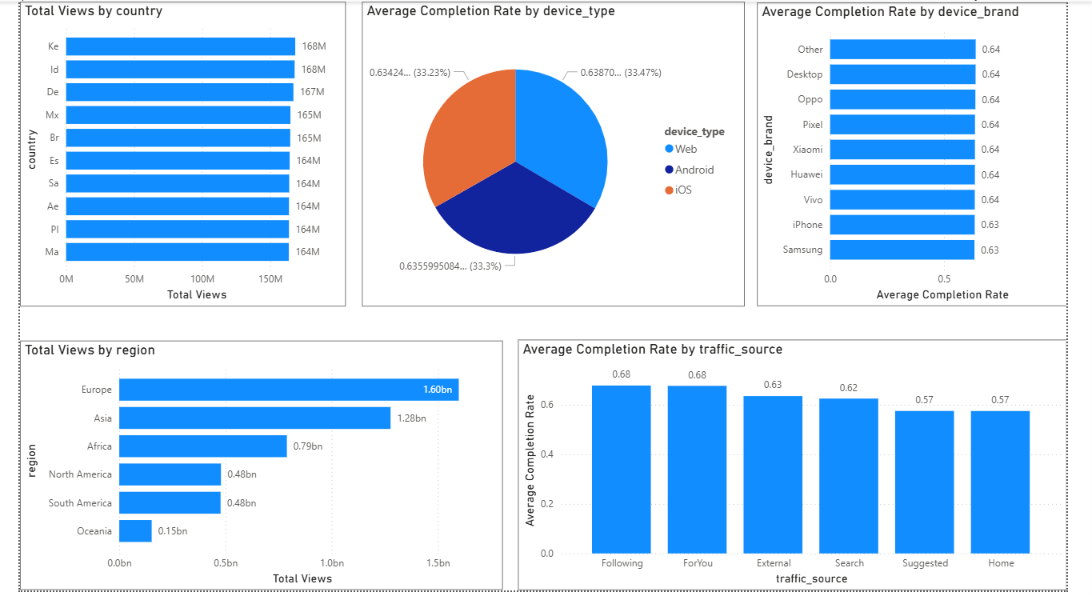

What the dashboard file says about the page in this screenshot:
{"tool":"powerbi","page":{"name":"Market & Device Analysis","canvas":[1280,720],"ordinal":3},"visuals":[{"type":"clusteredBarChart","fields":{"Category":["youtube_shorts_tiktok_trends_2025.country"],"Y":["youtube_shorts_tiktok_trends_2025.Total Views"]},"box":[0,0,398.7,372.9],"z":0},{"type":"clusteredBarChart","fields":{"Category":["youtube_shorts_tiktok_trends_2025.region"],"Y":["youtube_shorts_tiktok_trends_2025.Total Views"]},"box":[0,414.8,590.8,305.1],"z":1000},{"type":"pieChart","fields":{"Category":["youtube_shorts_tiktok_trends_2025.device_type"],"Y":["youtube_shorts_tiktok_trends_2025.Average Completion Rate"]},"box":[418.1,0,468.1,372.9],"z":2000},{"type":"clusteredBarChart","fields":{"Category":["youtube_shorts_tiktok_trends_2025.device_brand"],"Y":["youtube_shorts_tiktok_trends_2025.Average Completion Rate"]},"box":[900.7,1.6,379.3,371.2],"z":3000},{"type":"clusteredColumnChart","fields":{"Category":["youtube_shorts_tiktok_trends_2025.traffic_source"],"Y":["youtube_shorts_tiktok_trends_2025.Average Completion Rate"]},"box":[608.5,413.2,671.5,306.7],"z":4000}]}

Visuals, with their boxes in screenshot pixels (x1, y1, x2, y2), scaled from the page's 1280x720 canvas onto the 1092x597 screenshot:
clusteredBarChart - youtube_shorts_tiktok_trends_2025.country x youtube_shorts_tiktok_trends_2025.Total Views: 0, 0, 340, 309
clusteredBarChart - youtube_shorts_tiktok_trends_2025.region x youtube_shorts_tiktok_trends_2025.Total Views: 0, 344, 504, 596
pieChart - youtube_shorts_tiktok_trends_2025.device_type x youtube_shorts_tiktok_trends_2025.Average Completion Rate: 357, 0, 756, 309
clusteredBarChart - youtube_shorts_tiktok_trends_2025.device_brand x youtube_shorts_tiktok_trends_2025.Average Completion Rate: 768, 1, 1091, 309
clusteredColumnChart - youtube_shorts_tiktok_trends_2025.traffic_source x youtube_shorts_tiktok_trends_2025.Average Completion Rate: 519, 343, 1091, 596
